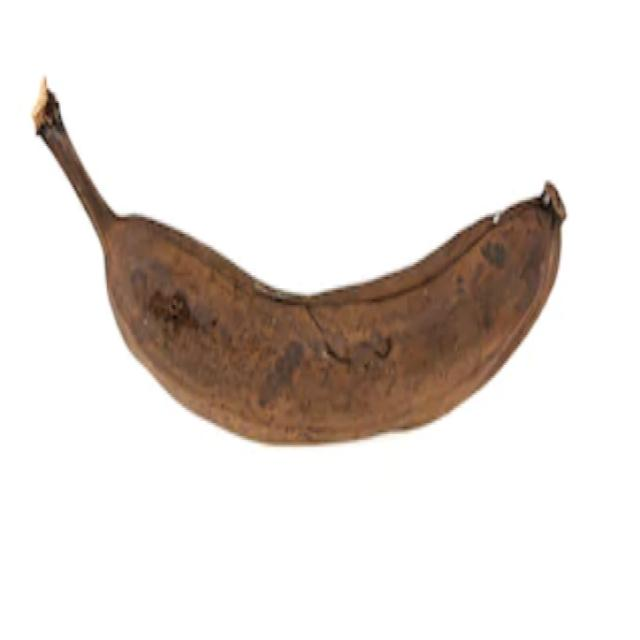rotten-banana: (30, 73, 567, 447)
